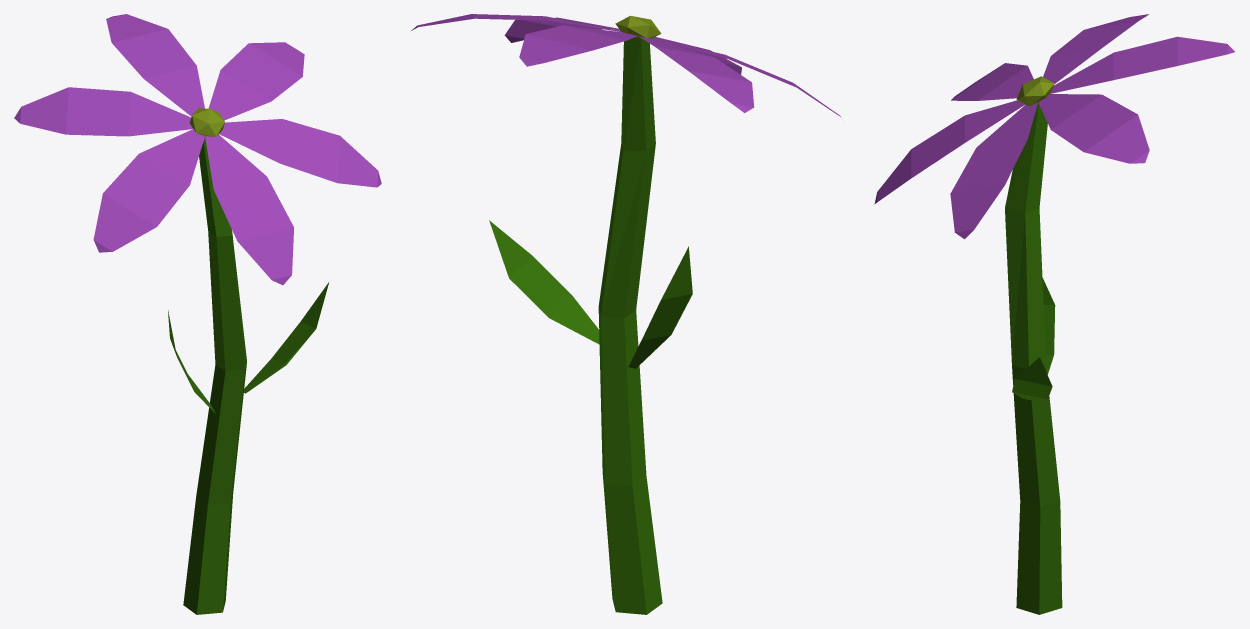
File: flower3.obj
The picture shows the model from 3 angles, left to right: view 1: azimuth 30°, elevation 25°; view 2: azimuth 150°, elevation 25°; view 3: azimuth 270°, elevation 25°; orthographic projection. The views are drawn at different scales.
Visible parts, largest first — view 1: Flower_g_a_01_LOD1_Untitled.019; view 2: Flower_g_a_01_LOD1_Untitled.019; view 3: Flower_g_a_01_LOD1_Untitled.019.
Part boxes in pixels (x1=…): Flower_g_a_01_LOD1_Untitled.019: x1=14, y1=14, x2=381, y2=614; Flower_g_a_01_LOD1_Untitled.019: x1=411, y1=14, x2=841, y2=614; Flower_g_a_01_LOD1_Untitled.019: x1=874, y1=14, x2=1234, y2=614.
Bounding box in the file's own units: 0.3937 × 0.6936 × 0.4087.
